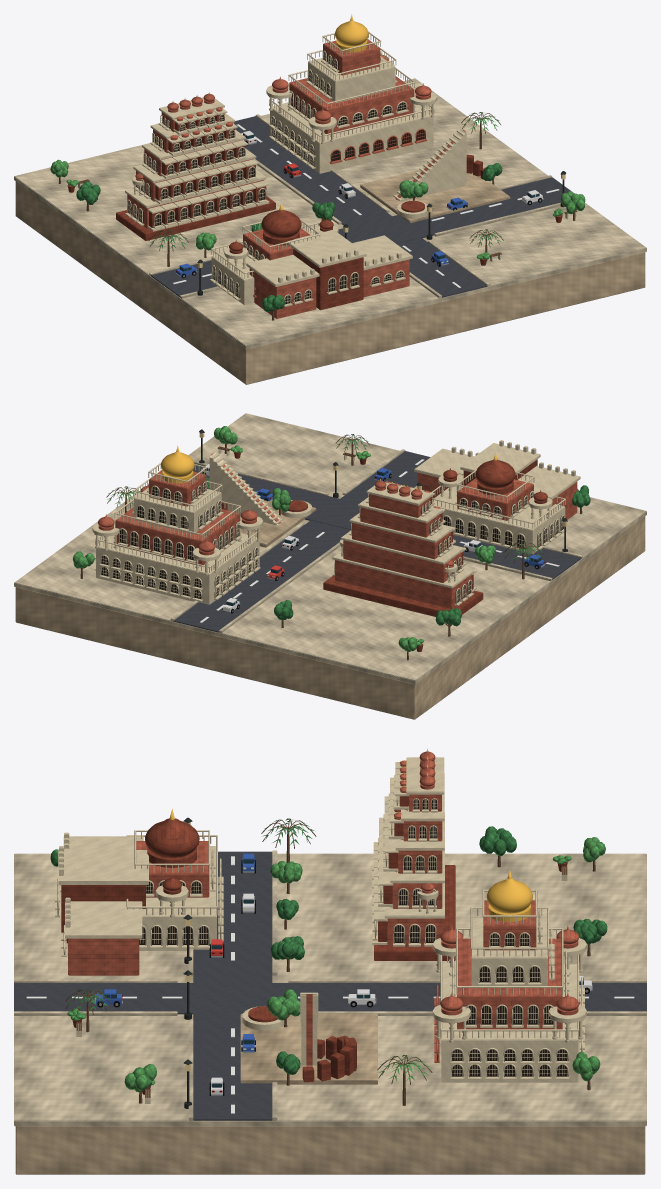
The model's file is jaipur_tile.glb.
3 renders of one model, top to bottom at view 1: azimuth 30°, elevation 25°; view 2: azimuth 150°, elevation 25°; view 3: azimuth 270°, elevation 25°, orthographic. The views are drawn at different scales.
Parts seen in each view (by area): view 1: jaipur_tile; view 2: jaipur_tile; view 3: jaipur_tile.
Boxes of the visible parts, left/top/right/bottom form: jaipur_tile: left=14, top=14, right=646, bottom=384; jaipur_tile: left=14, top=413, right=646, bottom=719; jaipur_tile: left=14, top=749, right=646, bottom=1174.
Size of the model in its own units: 12 by 4.82 by 12.
Materials: 22 (10 with a texture image).
